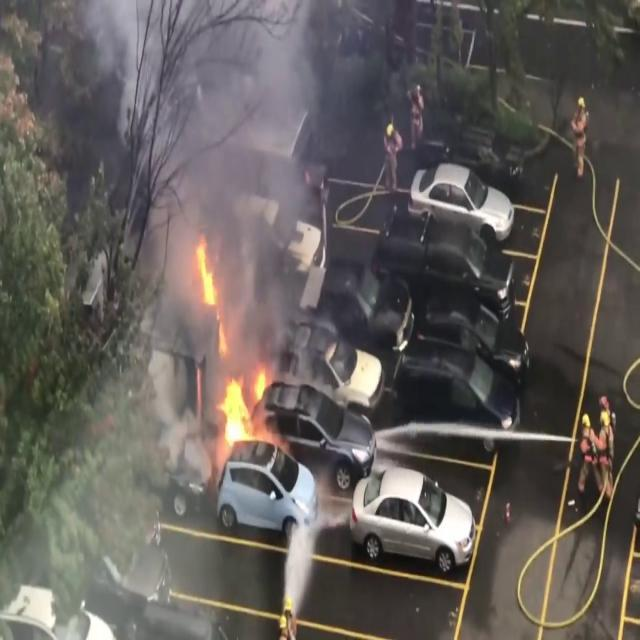Fire: (188, 229, 234, 357), (218, 354, 278, 450)
Smoke: (101, 0, 322, 354)
